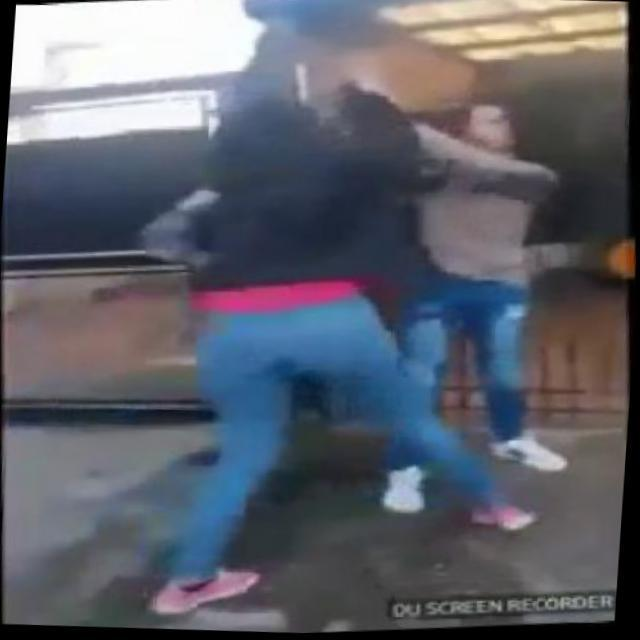fight: (142, 64, 580, 599)
